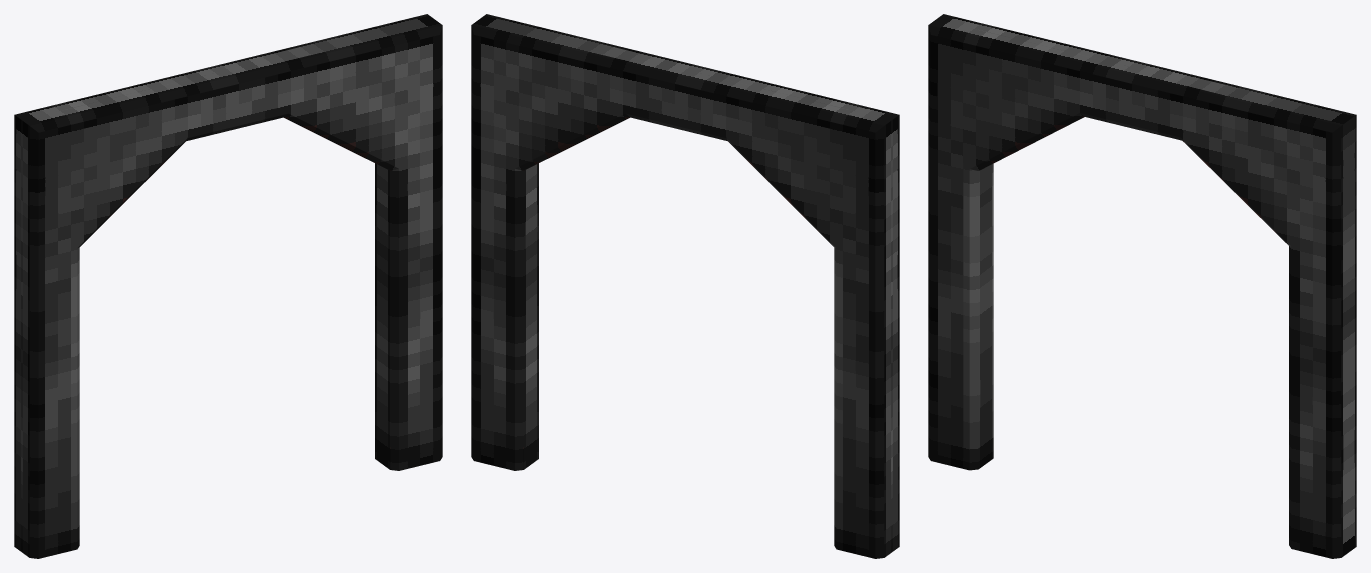
The model's file is DungeonDoorFrame.glb.
3 views of the same model, side by side, from view 1: azimuth 30°, elevation 25°; view 2: azimuth 150°, elevation 25°; view 3: azimuth 330°, elevation 25° (orthographic).
Parts seen in each view (by area): view 1: Dungeon_Door_Frame; view 2: Dungeon_Door_Frame; view 3: Dungeon_Door_Frame.
Part boxes in pixels (x1,y1,x2,y2): Dungeon_Door_Frame: [14, 14, 442, 558]; Dungeon_Door_Frame: [471, 14, 899, 558]; Dungeon_Door_Frame: [928, 14, 1356, 558].
Size of the model in its own units: 4.4 by 4.4 by 0.4.
1 material, 1 textured.
